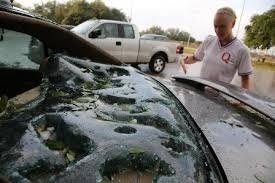Broken-glass: (1, 12, 214, 182)
